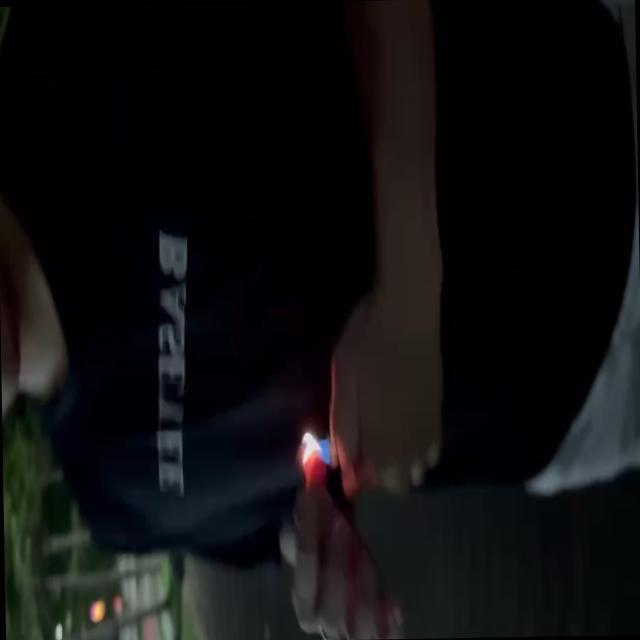Fire: (302, 430, 333, 469)
